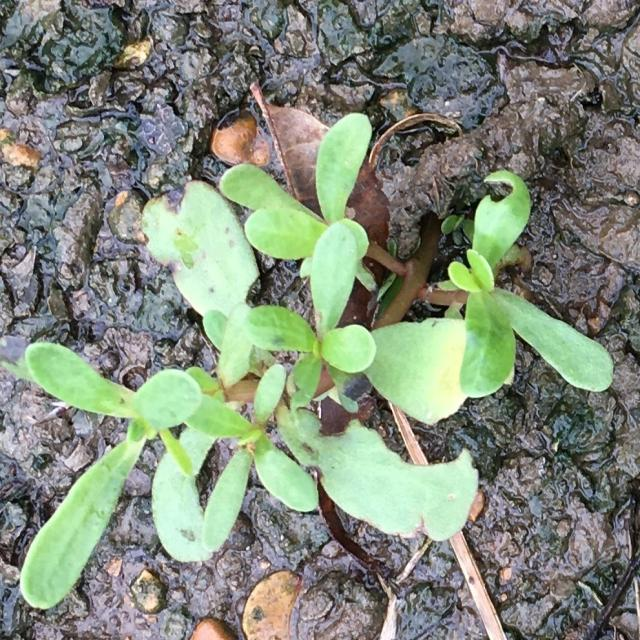Purslane: (19, 112, 614, 608)
